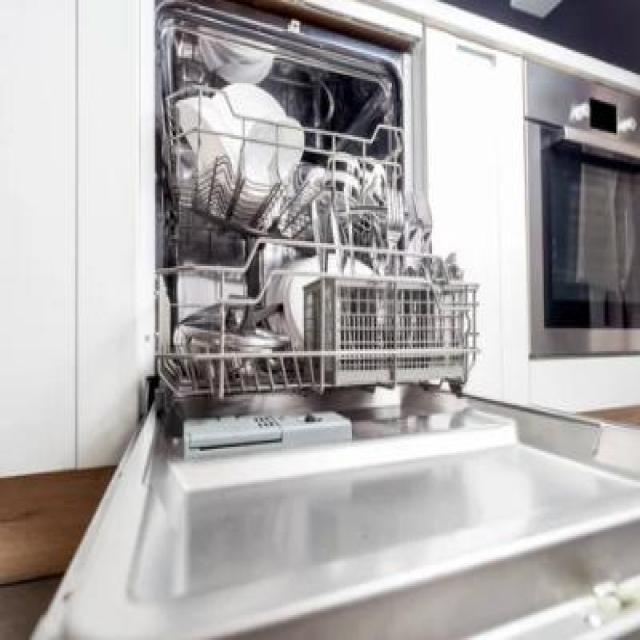dishwasher: (29, 0, 638, 638)
